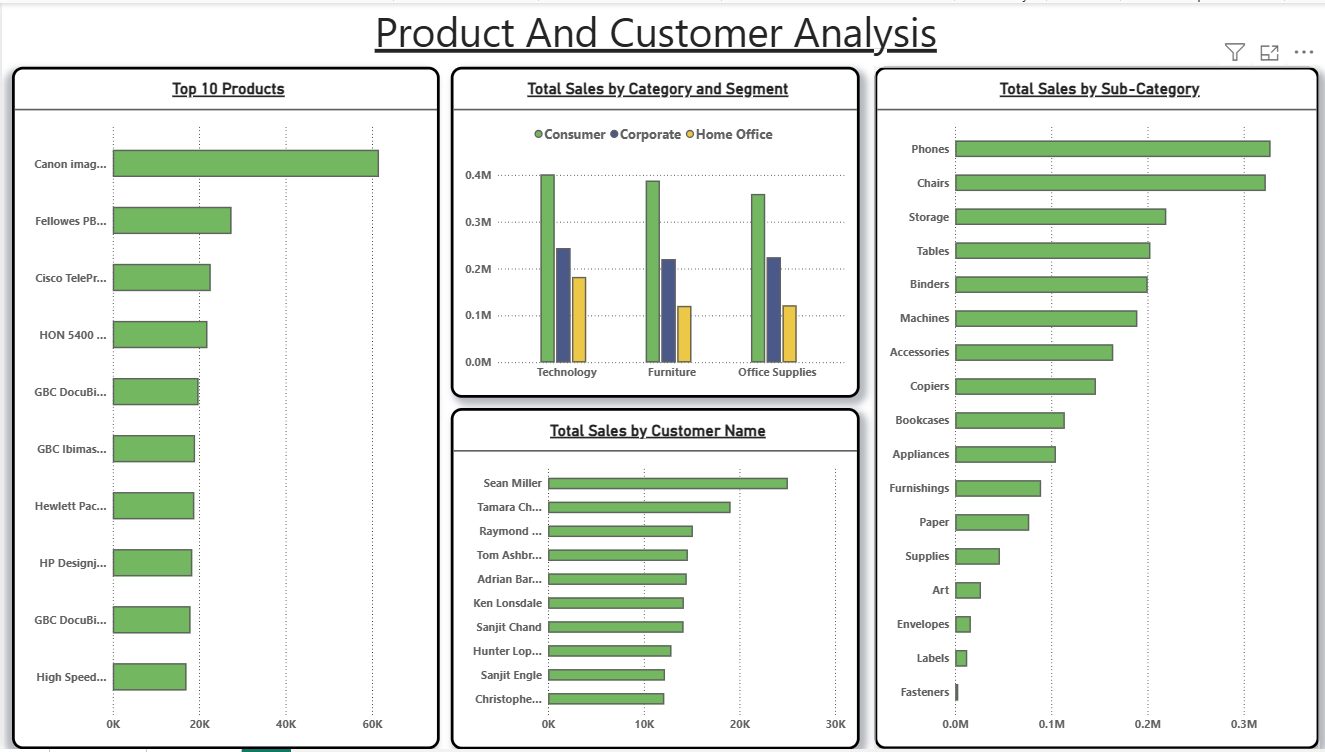

What the dashboard file says about the page in this screenshot:
{"tool":"powerbi","page":{"name":"Page 2","canvas":[1920,1080],"ordinal":1},"visuals":[{"type":"textbox","box":[421.7,0,1049.6,92.3],"z":0},{"type":"clusteredBarChart","title":"Top 10 Products","fields":{"Category":["train.Product Name"],"Y":["train.Total Sales"]},"box":[14.5,92.3,618.9,988.1],"z":1},{"type":"clusteredBarChart","fields":{"Category":["train.Sub-Category"],"Y":["train.Total Sales"]},"box":[1263.1,92.3,644.2,988.1],"z":2},{"type":"clusteredColumnChart","fields":{"Category":["train.Category"],"Series":["train.Segment"],"Y":["train.Total Sales"]},"box":[649.7,92.3,591.8,479.6],"z":3},{"type":"clusteredBarChart","fields":{"Category":["train.Customer Name"],"Y":["train.Total Sales"]},"box":[649.7,586.3,591.8,494],"z":4}]}

Visuals, with their boxes in screenshot pixels (x1, y1, x2, y2), scaled from the page's 1920x1080 canvas onto the 1325x752 screenshot:
textbox: (291,0,1015,64)
"Top 10 Products" clusteredBarChart: (10,64,437,751)
clusteredBarChart - train.Sub-Category x train.Total Sales: (872,64,1316,751)
clusteredColumnChart - train.Category x train.Segment: (448,64,857,398)
clusteredBarChart - train.Customer Name x train.Total Sales: (448,408,857,751)
